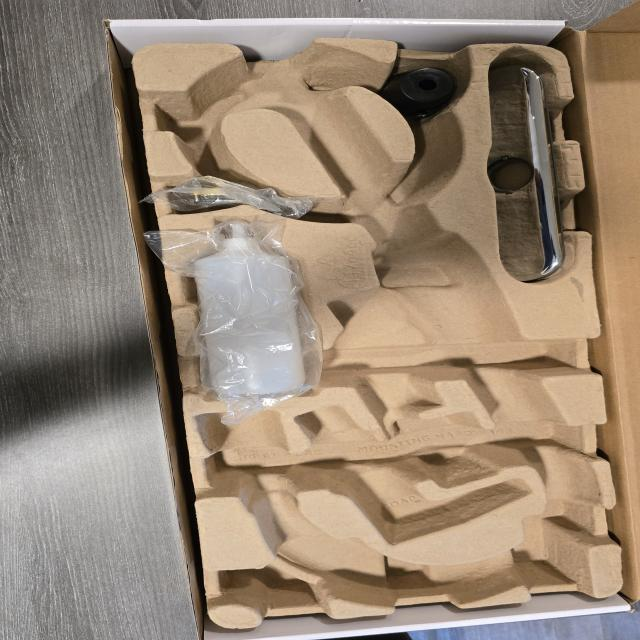1m: (196, 41, 595, 604)
2m: (293, 404, 532, 545)
3: (189, 218, 308, 401)
4: (488, 65, 561, 281)
5: (378, 66, 458, 118)
6: (140, 174, 320, 217)
7m: (160, 74, 251, 152)
